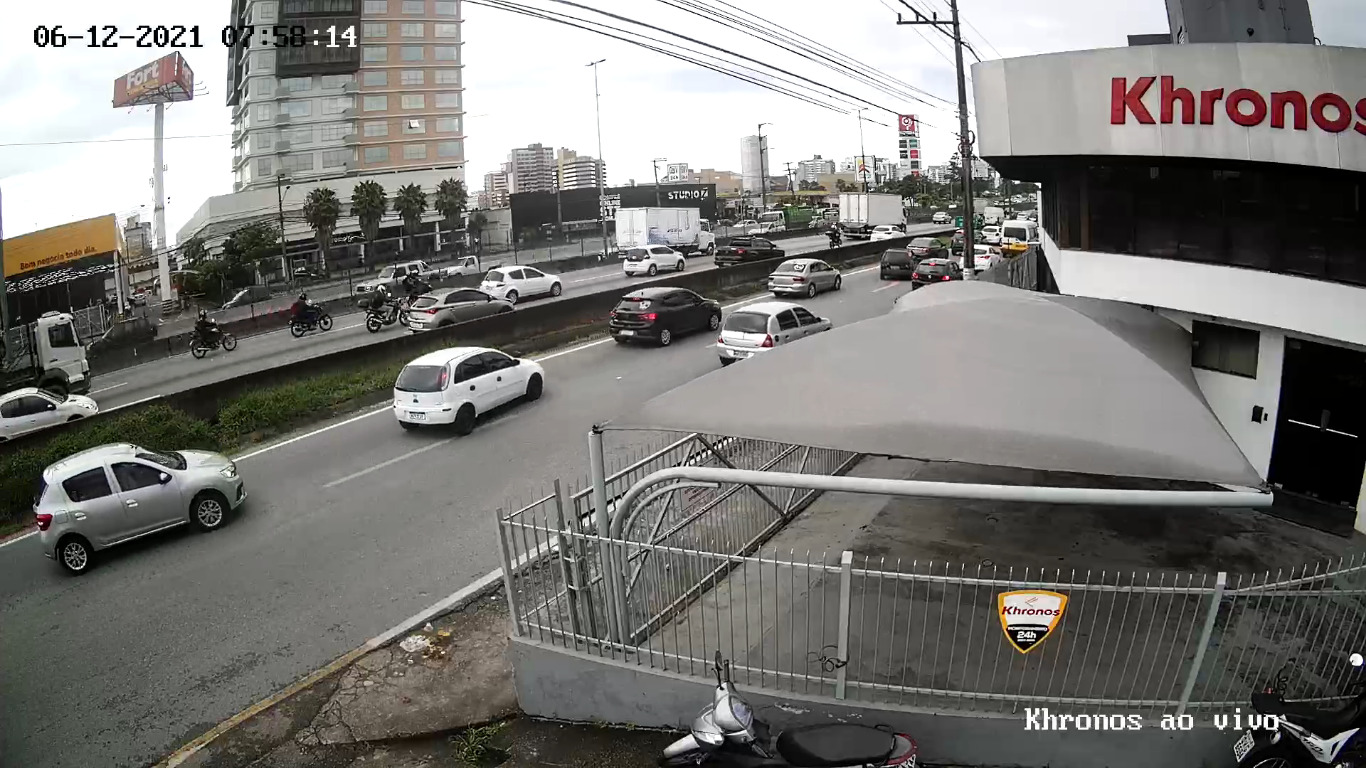car: (35, 440, 245, 574), (392, 345, 544, 436), (608, 287, 722, 344)
